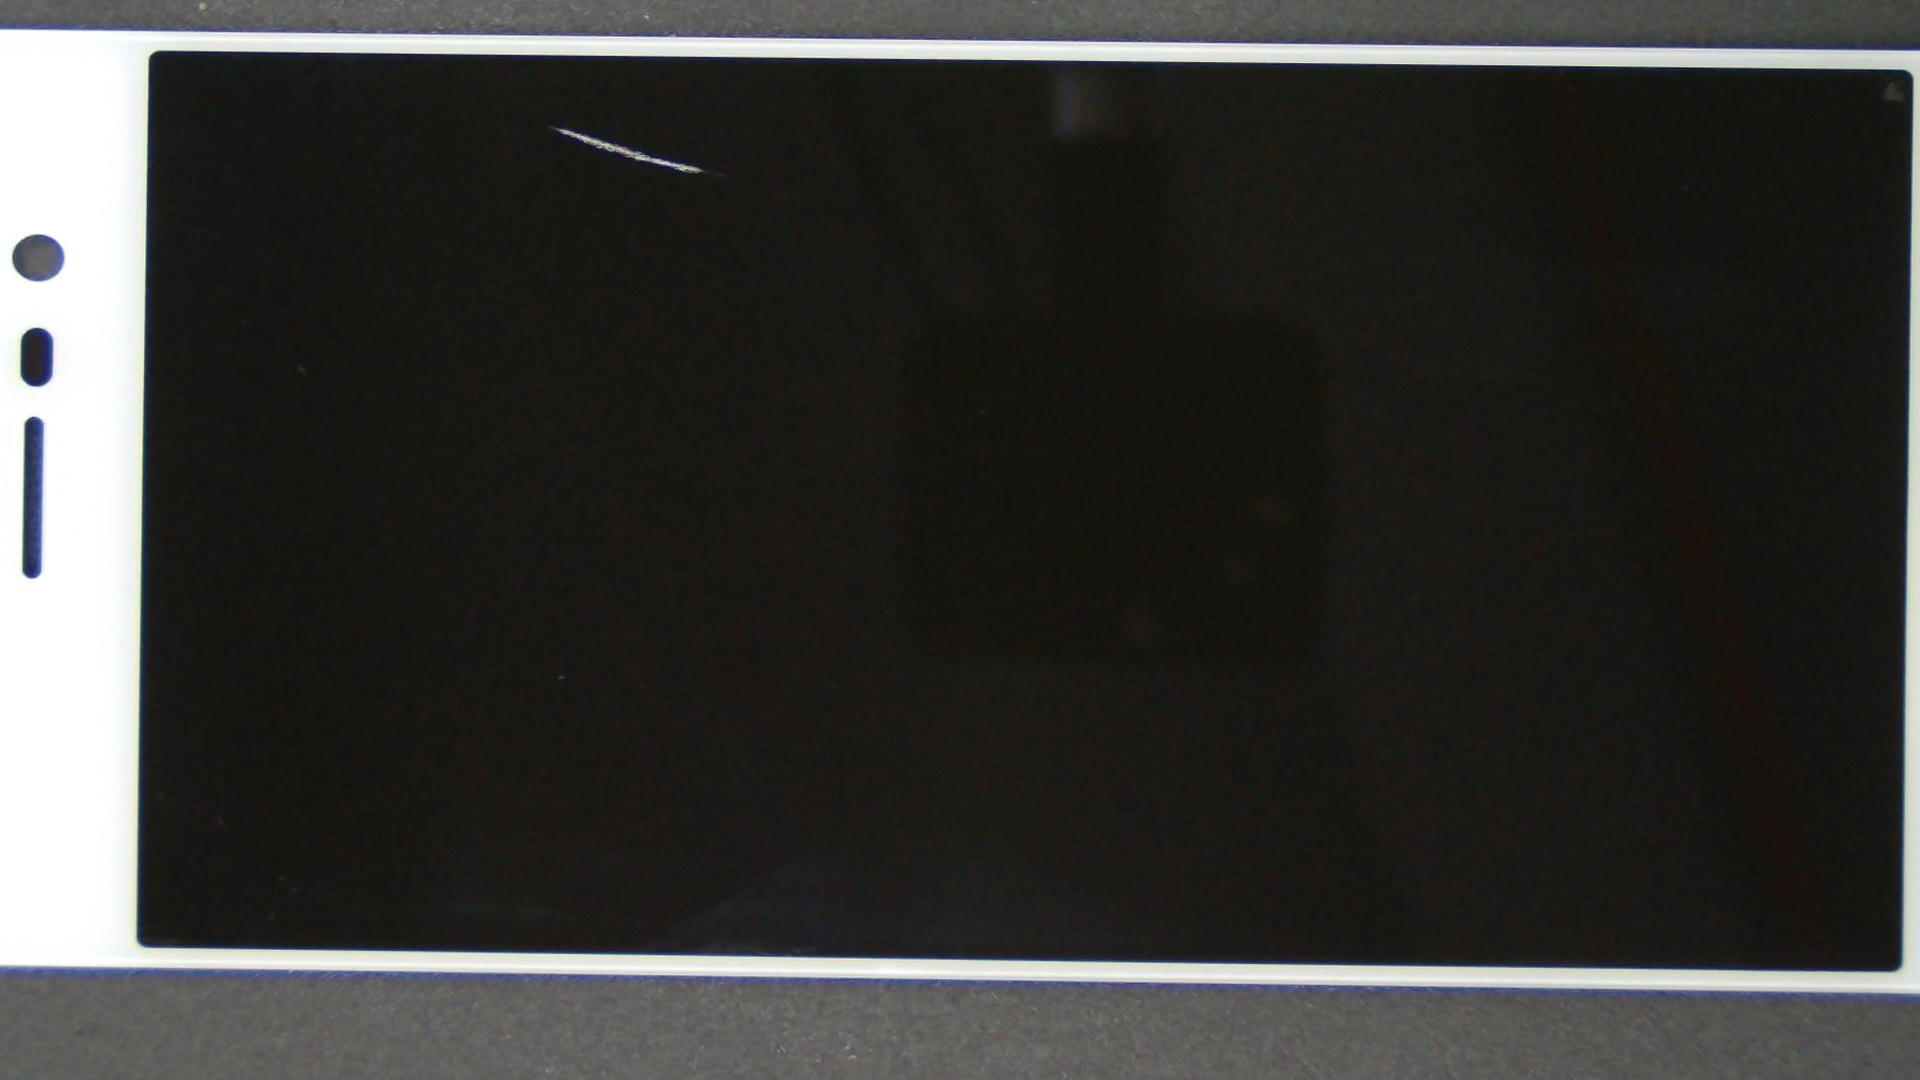oil: (223, 34, 875, 217)
